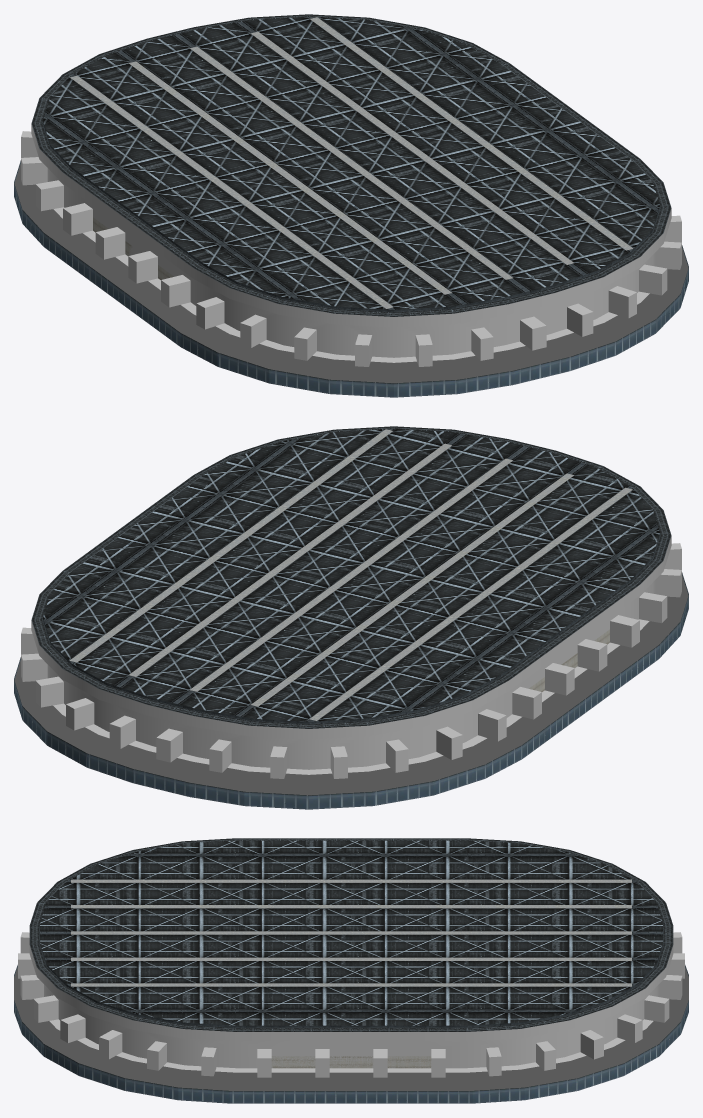
Rendered from IceHockeyStadium.fbx.
3 views of the same model, one above another, from view 1: azimuth 30°, elevation 25°; view 2: azimuth 150°, elevation 25°; view 3: azimuth 270°, elevation 25° (orthographic). The views are drawn at different scales.
Parts seen in each view (by area): view 1: Stadium; view 2: Stadium; view 3: Stadium.
Part boxes in pixels (bbox=[...]): Stadium: bbox=[14, 14, 688, 397]; Stadium: bbox=[14, 426, 688, 809]; Stadium: bbox=[14, 838, 688, 1103].
Size of the model in its own units: 92.74 by 20.44 by 128.
